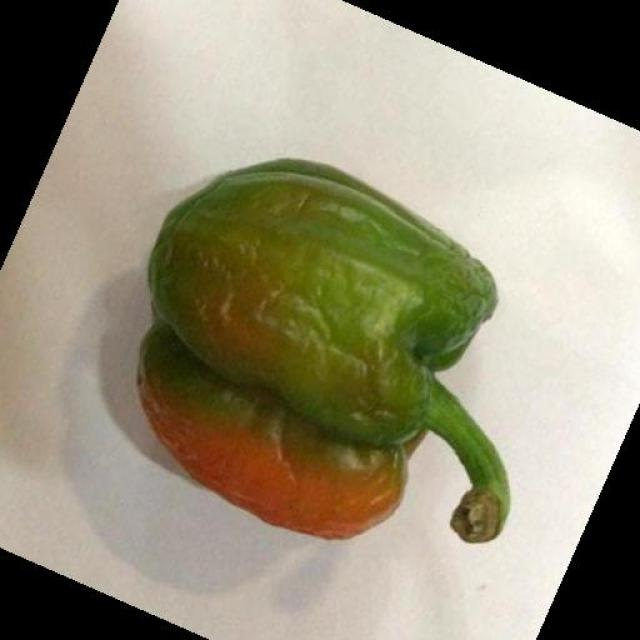Stale_Capsicum: (138, 140, 496, 553)
